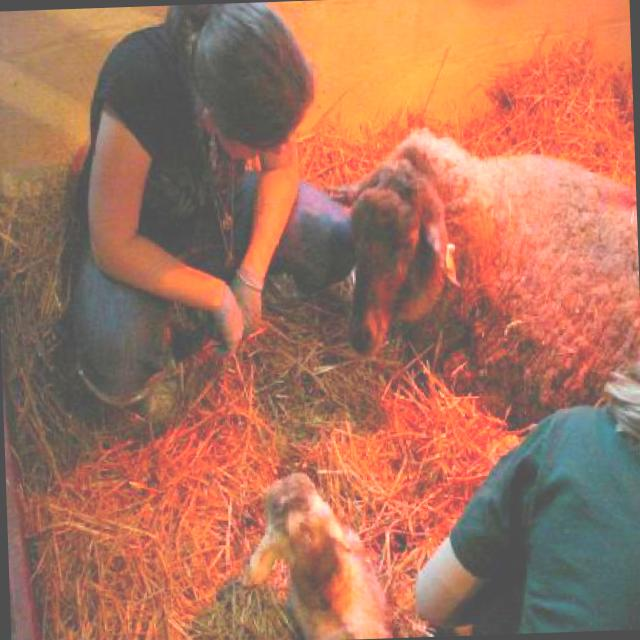Person: (53, 0, 355, 398), (402, 358, 640, 625)
